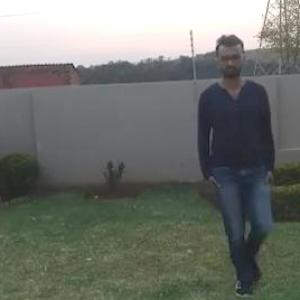follow: (194, 28, 272, 291)
